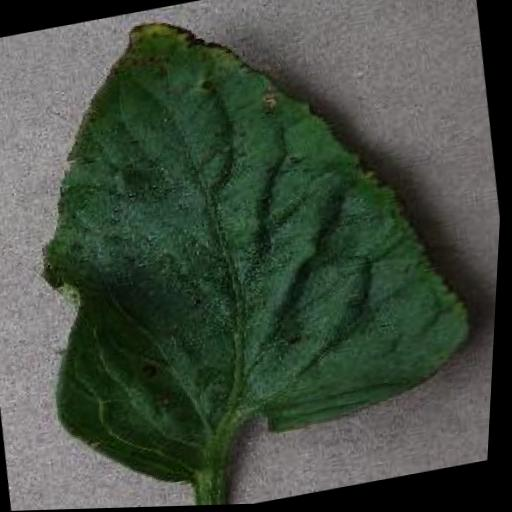Bacterial Spot: (0, 0, 510, 505)
